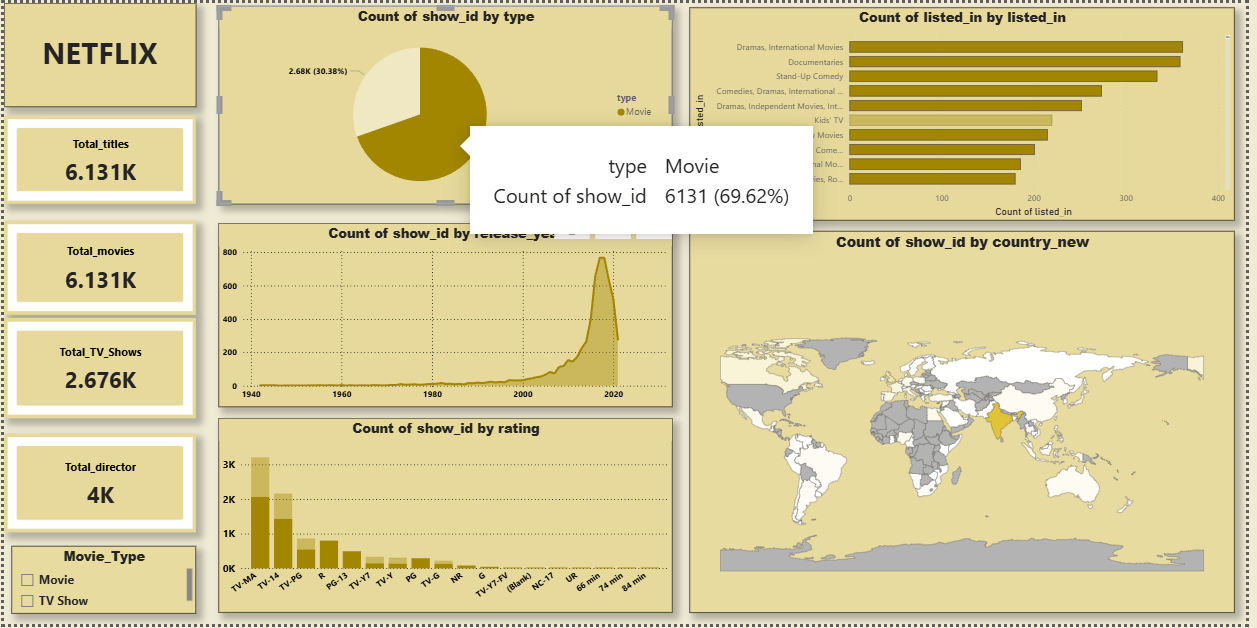

What the dashboard file says about the page in this screenshot:
{"tool":"powerbi","page":{"name":"Page 1","canvas":[1800,900],"ordinal":0},"visuals":[{"type":"textbox","box":[0,0,278.5,150.6],"z":0},{"type":"cardVisual","fields":{"Data":["netflix_titles.Total_titles"]},"box":[0,163,278.3,128.3],"z":1000},{"type":"cardVisual","fields":{"Data":["netflix_titles.Total_movies"]},"box":[0,315.2,278.3,137],"z":2000},{"type":"cardVisual","fields":{"Data":["netflix_titles.Total_TV_Shows"]},"box":[0,456.5,278.3,145.7],"z":3000},{"type":"pieChart","fields":{"Category":["netflix_titles.type"],"Y":["CountNonNull(netflix_titles.show_id)"]},"box":[310.9,4.3,658,287.5],"z":4000},{"type":"clusteredBarChart","fields":{"Category":["netflix_titles.listed_in"],"Y":["CountNonNull(netflix_titles.listed_in)"]},"box":[994.4,6.4,790,308.8],"z":5000},{"type":"areaChart","fields":{"Category":["netflix_titles.release_year"],"Y":["CountNonNull(netflix_titles.show_id)"]},"box":[310.9,319.4,658,266.2],"z":6000},{"type":"lineStackedColumnComboChart","fields":{"Y":["CountNonNull(netflix_titles.show_id)"],"Category":["netflix_titles.rating"]},"box":[310.9,602.6,658,281.1],"z":7000},{"type":"shapeMap","fields":{"Category":["netflix_titles.country_new"],"Value":["CountNonNull(netflix_titles.show_id)"]},"box":[994.4,330,790,553.6],"z":7001},{"type":"cardVisual","fields":{"Data":["netflix_titles.Total_director"]},"box":[0,623.9,278.3,143.5],"z":7002},{"type":"slicer","title":"Movie_Type","fields":{"Values":["netflix_titles.type"]},"box":[10.9,787,267.4,97.8],"z":7003}]}

Visuals, with their boxes in screenshot pixels (x1, y1, x2, y2), scaled from the page's 1800x900 canvas onto the 1257x628 screenshot:
textbox: box(0, 0, 194, 105)
cardVisual - netflix_titles.Total_titles: box(0, 114, 194, 203)
cardVisual - netflix_titles.Total_movies: box(0, 220, 194, 316)
cardVisual - netflix_titles.Total_TV_Shows: box(0, 319, 194, 420)
pieChart - netflix_titles.type x CountNonNull(netflix_titles.show_id): box(217, 3, 677, 204)
clusteredBarChart - netflix_titles.listed_in x CountNonNull(netflix_titles.listed_in): box(694, 4, 1246, 220)
areaChart - netflix_titles.release_year x CountNonNull(netflix_titles.show_id): box(217, 223, 677, 409)
lineStackedColumnComboChart - CountNonNull(netflix_titles.show_id) x netflix_titles.rating: box(217, 420, 677, 617)
shapeMap - netflix_titles.country_new x CountNonNull(netflix_titles.show_id): box(694, 230, 1246, 617)
cardVisual - netflix_titles.Total_director: box(0, 435, 194, 535)
"Movie_Type" slicer: box(8, 549, 194, 617)
